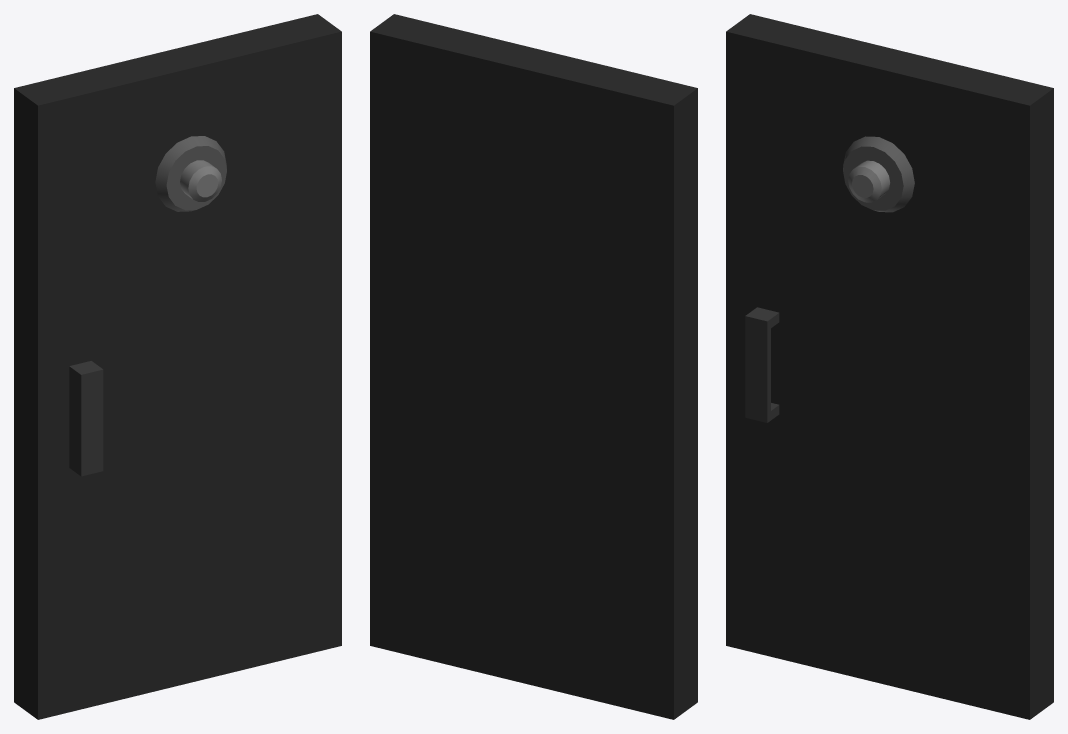
The model's file is SM_Props_Safe_01_2.fbx.
The picture shows the model from 3 angles, left to right: view 1: azimuth 30°, elevation 25°; view 2: azimuth 150°, elevation 25°; view 3: azimuth 330°, elevation 25°; orthographic projection.
Parts seen in each view (by area): view 1: SM_Props_Safe_01_2; view 2: SM_Props_Safe_01_2; view 3: SM_Props_Safe_01_2.
Boxes of the visible parts, bbox=[...] form: SM_Props_Safe_01_2: bbox=[14, 14, 341, 719]; SM_Props_Safe_01_2: bbox=[370, 14, 697, 719]; SM_Props_Safe_01_2: bbox=[726, 14, 1053, 719].
Size of the model in its own units: 0.3618 by 0.699 by 0.0833.
